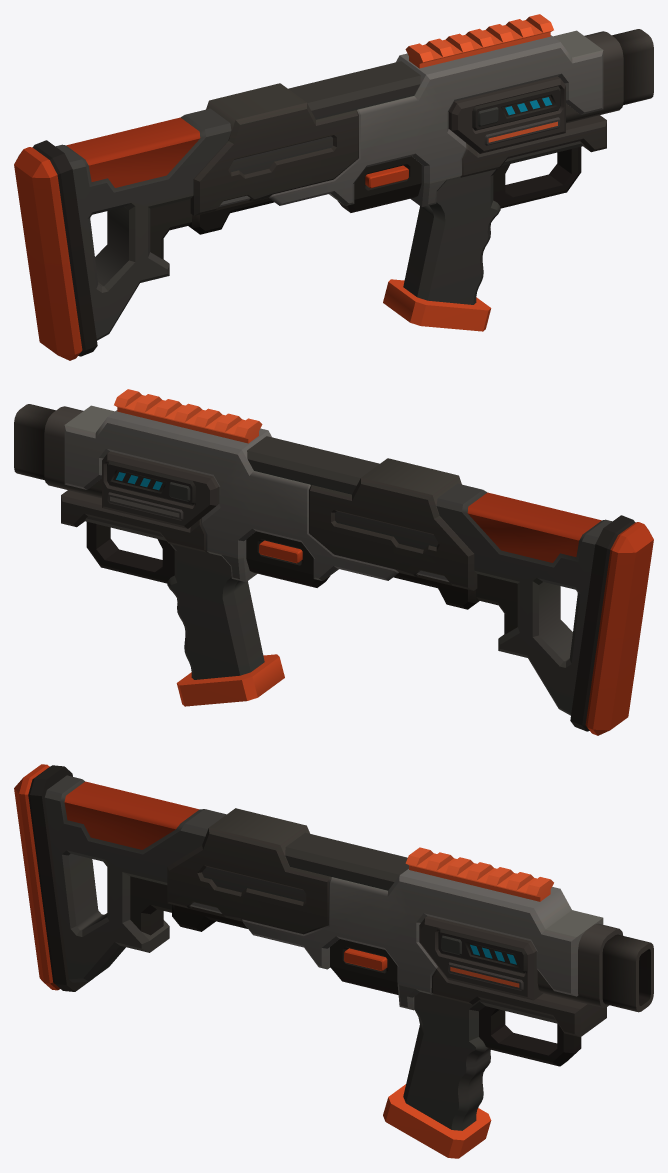
The picture shows the model from 3 angles, top to bottom: view 1: azimuth 30°, elevation 25°; view 2: azimuth 150°, elevation 25°; view 3: azimuth 330°, elevation 25°; orthographic projection.
Parts seen in each view (by area): view 1: AR6_Base; view 2: AR6_Base; view 3: AR6_Base.
Boxes of the visible parts, box(x1,y1,x2,y2) form: AR6_Base: box(14, 14, 653, 360); AR6_Base: box(14, 389, 653, 735); AR6_Base: box(14, 764, 653, 1158).
Bounding box in the file's own units: 53 × 23.07 × 5.68.
